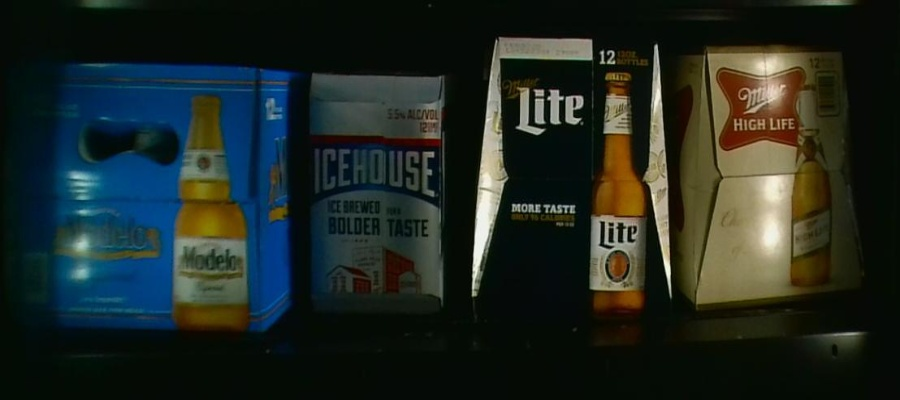bottle: (7, 61, 300, 325), (474, 31, 671, 312), (680, 44, 869, 309), (307, 72, 446, 317)
